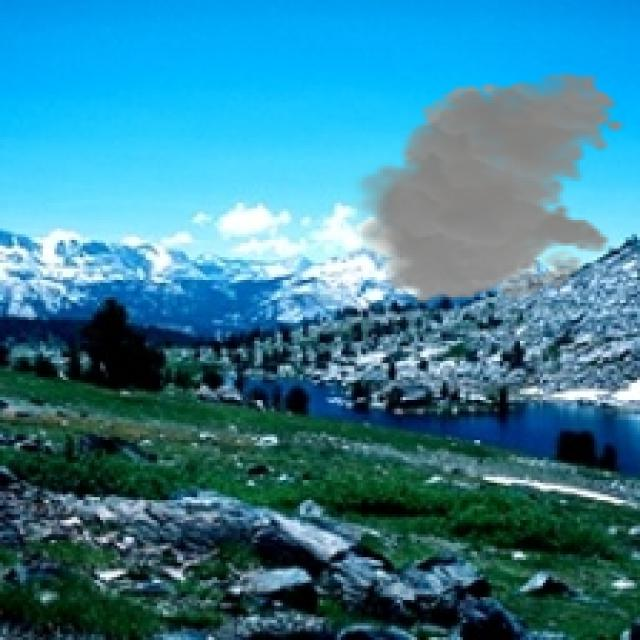smoke: (346, 71, 626, 306)
